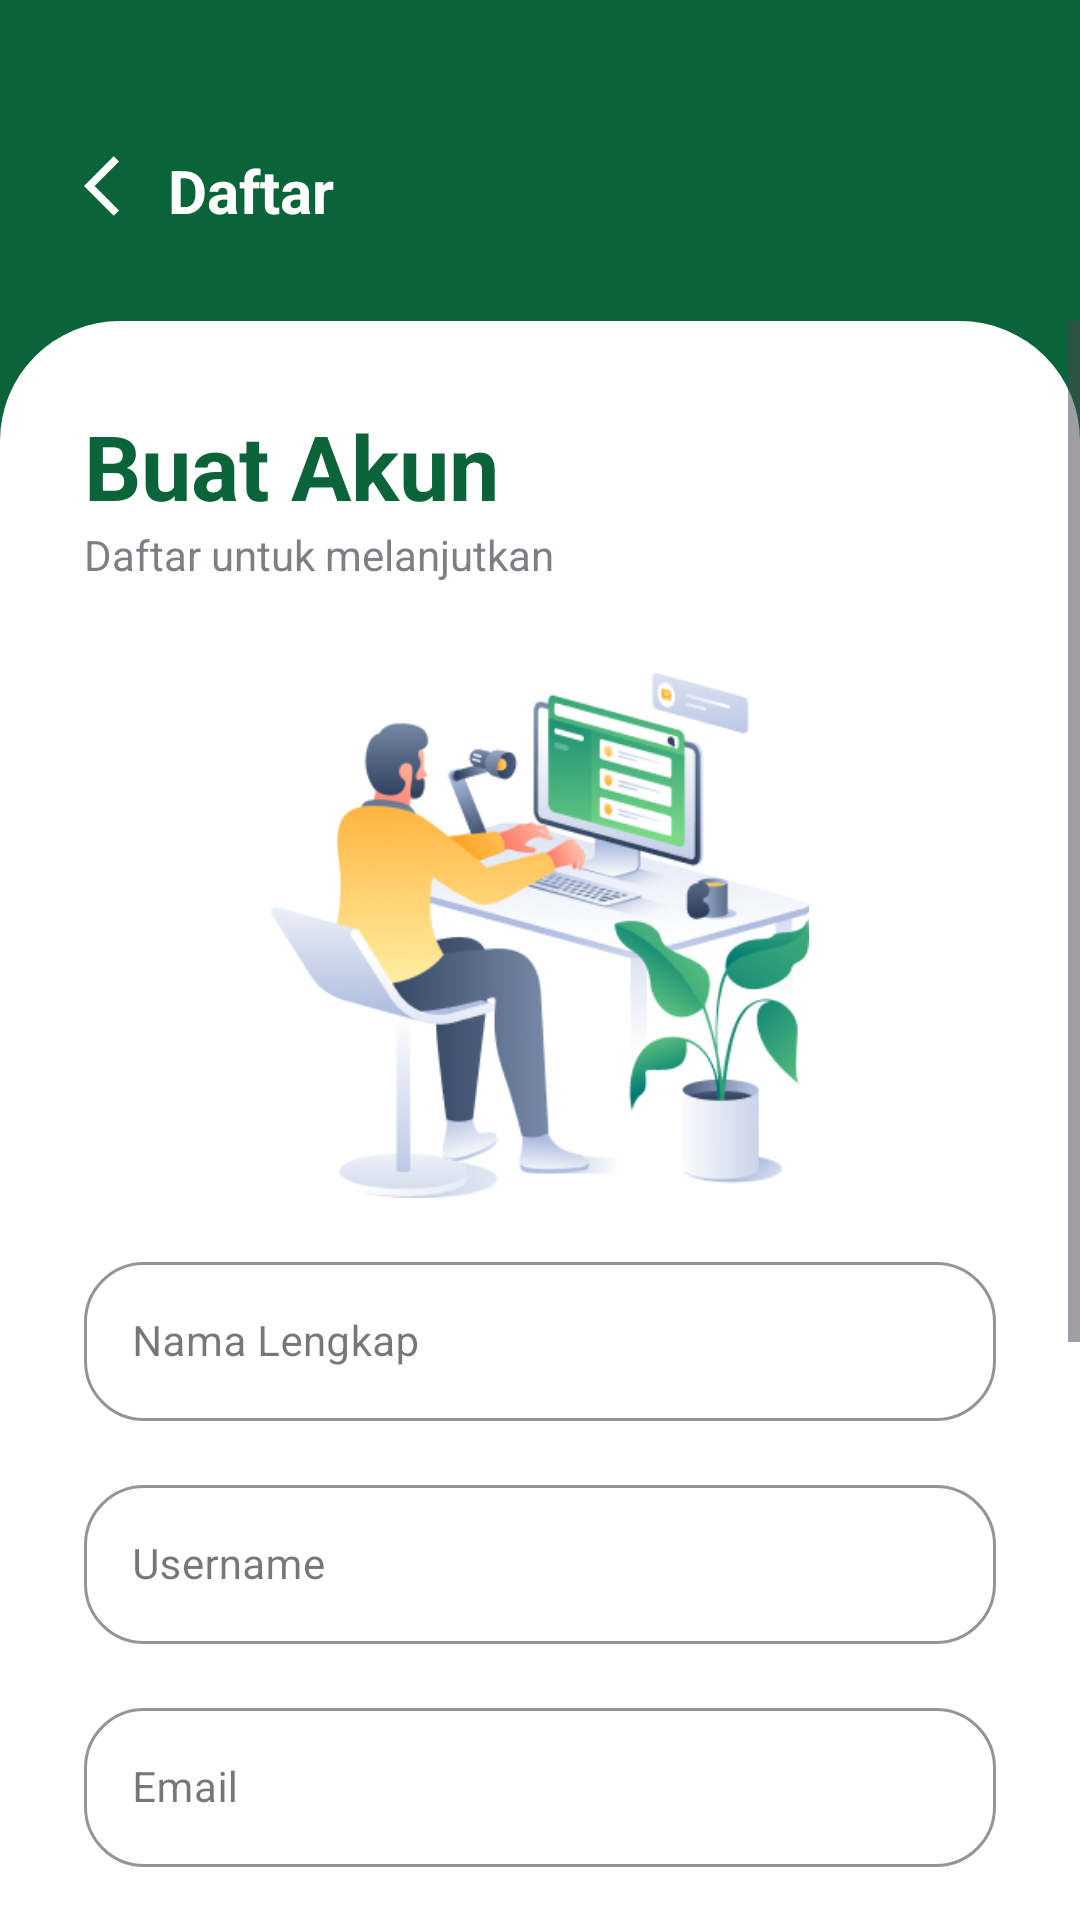

Locate icon controls on the screen. Image size 1080x1920, boxes as (x1, y1, x2, y2).
Tombol Kembali: (84, 156, 119, 216)
